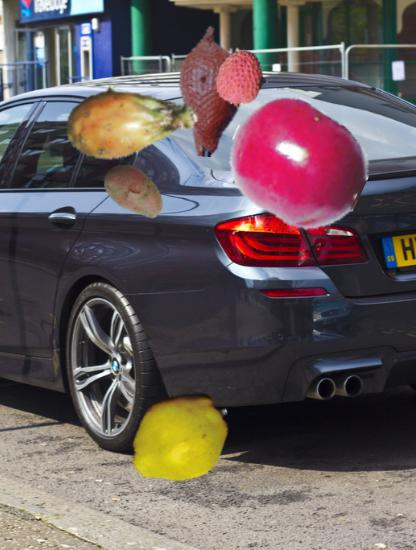Cactus: (66, 58, 199, 191)
Cherry: (228, 93, 368, 233)
Lychee: (210, 49, 269, 108)
Potato: (100, 157, 169, 226)
Quince: (125, 385, 236, 496)
Salak: (145, 25, 277, 157)
